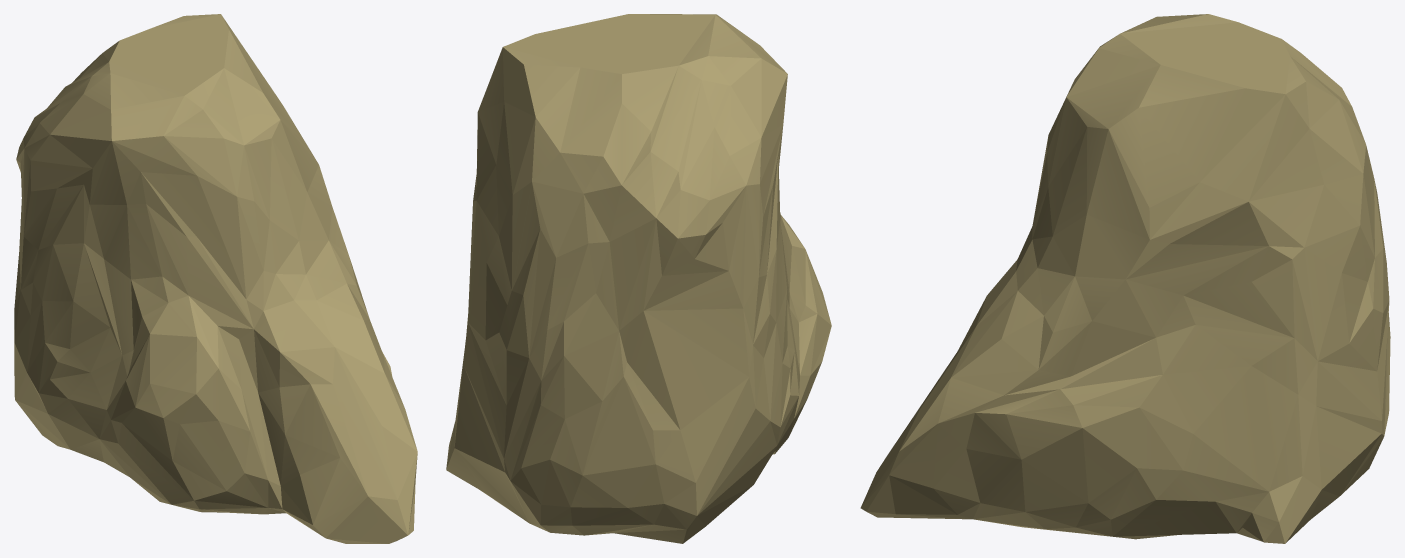
File: SM_rock_33.fbx
3 views of the same model, side by side, from view 1: azimuth 30°, elevation 25°; view 2: azimuth 150°, elevation 25°; view 3: azimuth 270°, elevation 25° (orthographic). The views are drawn at different scales.
Visible parts, largest first — view 1: rock_33; view 2: rock_33; view 3: rock_33.
Boxes of the visible parts, x1=… form: rock_33: x1=14, y1=14, x2=417, y2=543; rock_33: x1=446, y1=14, x2=831, y2=543; rock_33: x1=860, y1=14, x2=1390, y2=543.
Size of the model in its own units: 75.65 by 105 by 115.
